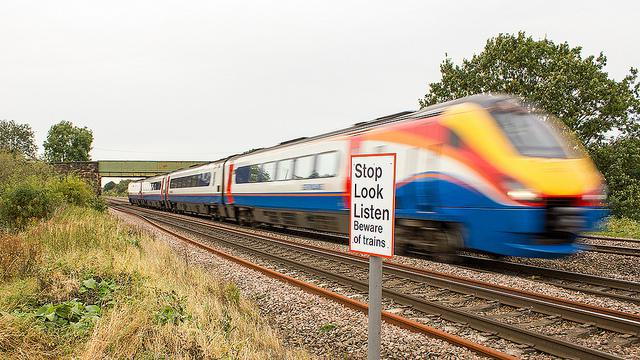Train: (131, 92, 610, 259)
